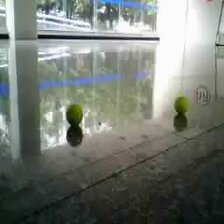tennis: (65, 104, 83, 123), (174, 96, 190, 112)
